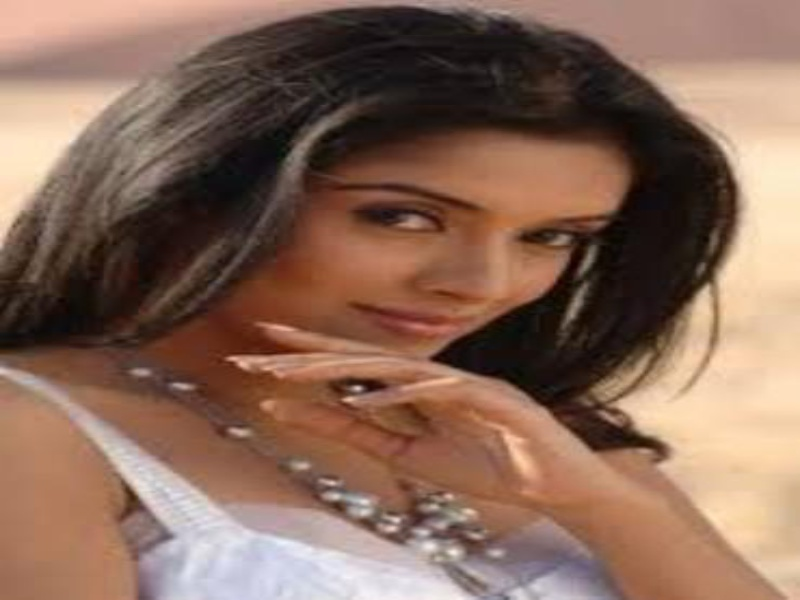TsisyArotava: (219, 6, 663, 444)
